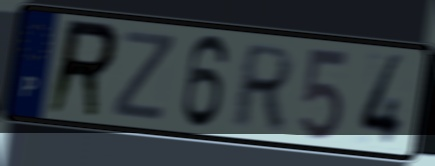4: (355, 49, 408, 151)
5: (296, 43, 353, 143)
6: (179, 32, 230, 132)
R: (43, 16, 122, 122), (228, 41, 297, 131)
Z: (109, 28, 180, 124)
